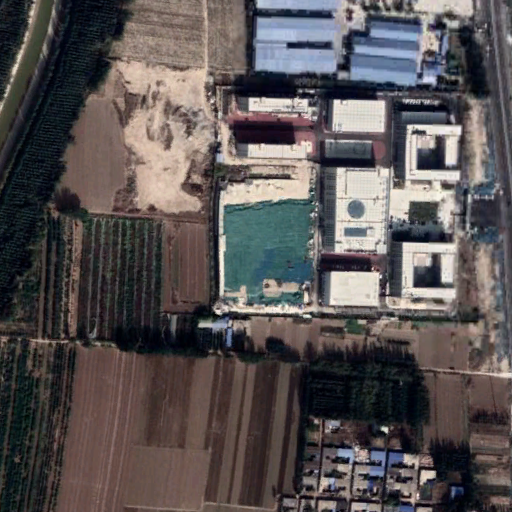cw: (224, 199, 314, 307)
